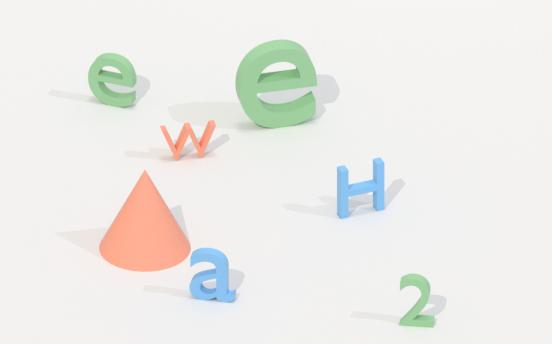2: (396, 270, 436, 333)
H-hoa: (334, 151, 389, 221)
a: (189, 240, 238, 307)
e: (232, 35, 321, 130), (86, 49, 139, 108)
non: (99, 166, 192, 277)
w: (160, 116, 218, 165)
